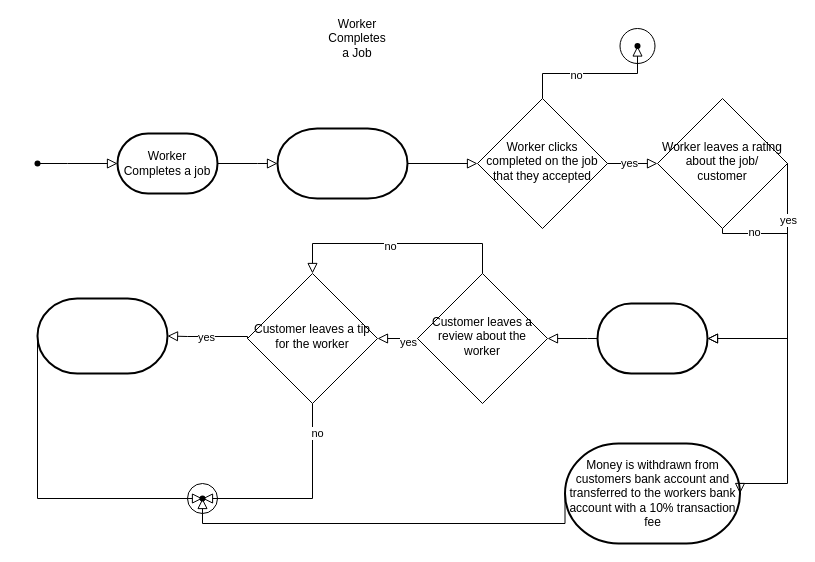
Image size: 815x562. Some labels were removed from this diagram. Each missing label, with the centre of its shape:
"Job Appears as completed on the customers Your Listings page" goes at pixel 652 338.
"Money is withdrawn from customers account and sent to workers account" goes at pixel 102 335.
"Worker Navigates to the job on their accepted jobs page" goes at pixel 342 163.
